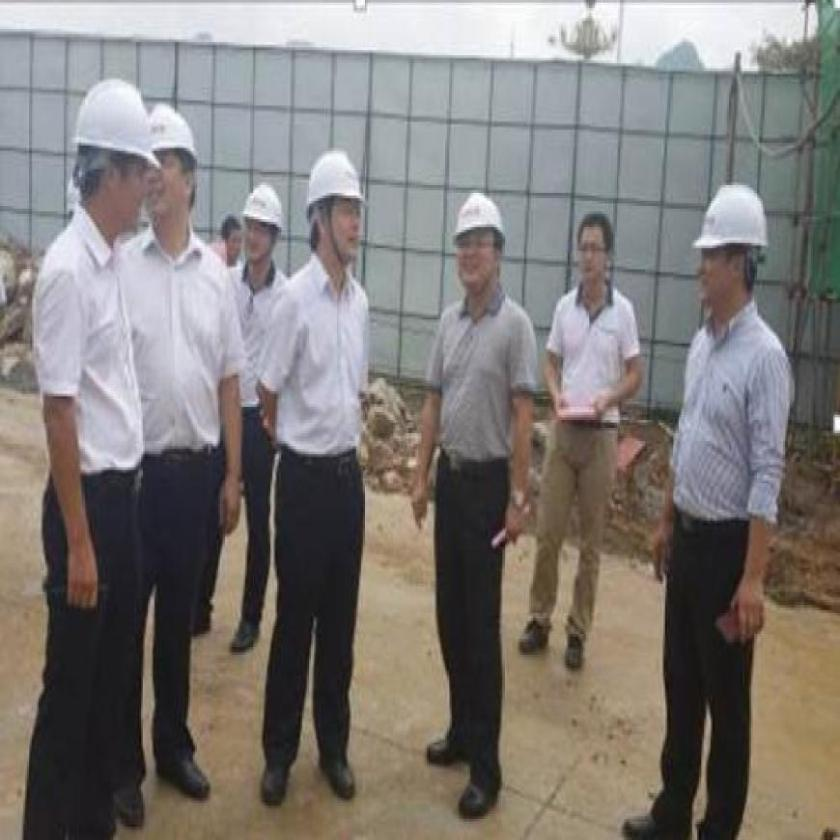Con_casco: (62, 66, 154, 243), (140, 88, 210, 237), (688, 177, 762, 310), (303, 147, 367, 274), (440, 190, 506, 308), (235, 163, 286, 282)
Sin_casco: (565, 204, 620, 308)
